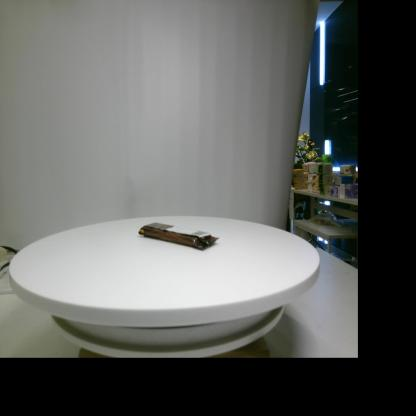Chocolate: (139, 223, 220, 250)
